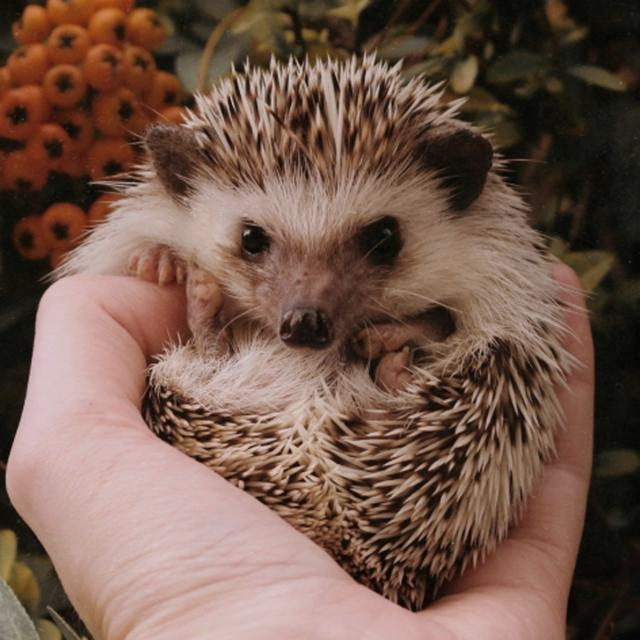hedgehog: (53, 54, 577, 610)
